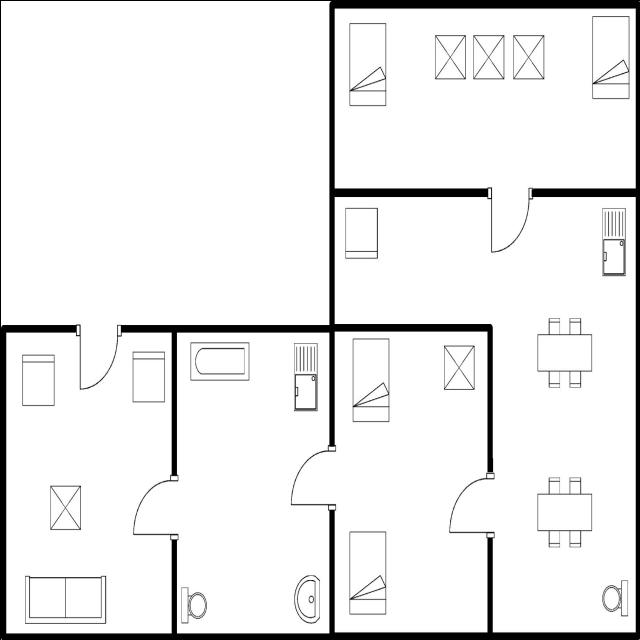bed: (346, 334, 394, 426), (344, 18, 389, 114), (346, 524, 390, 618), (587, 11, 632, 102)
coffee_table: (508, 30, 548, 84), (432, 27, 469, 84), (440, 341, 478, 396), (46, 481, 83, 534), (470, 29, 504, 82)
dining_table: (533, 311, 596, 391), (534, 470, 596, 550)
large_sink: (600, 573, 632, 621), (178, 582, 210, 628)
large_sofa: (21, 570, 110, 628)
sink: (598, 204, 630, 280), (290, 340, 322, 416)
small_sink: (292, 569, 324, 627)
small_sofa: (18, 348, 58, 411), (127, 346, 167, 404), (340, 205, 380, 262)
tub: (187, 338, 251, 385)
